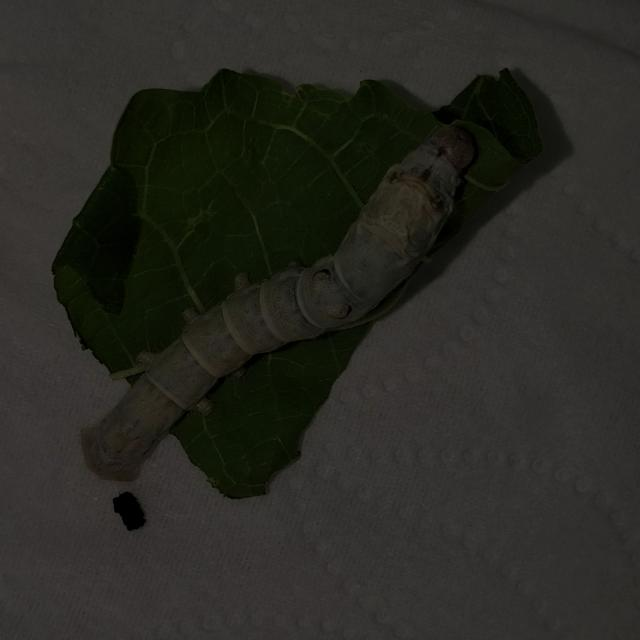Healthy: (58, 101, 491, 502)
